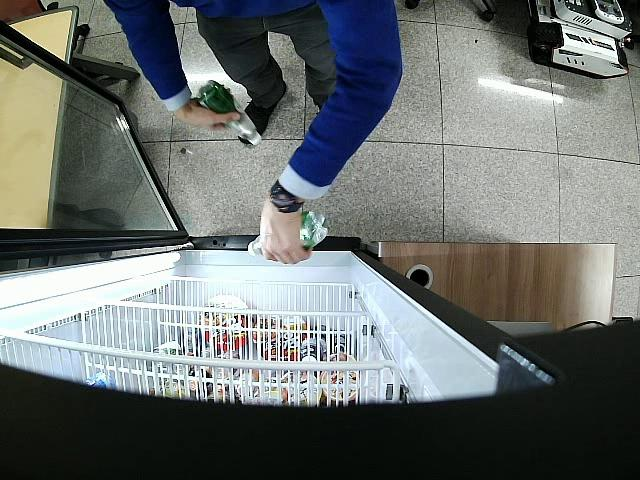00_hand: (261, 211, 311, 265), (175, 101, 243, 133)
18_trevi: (198, 80, 262, 146), (249, 212, 327, 258)
